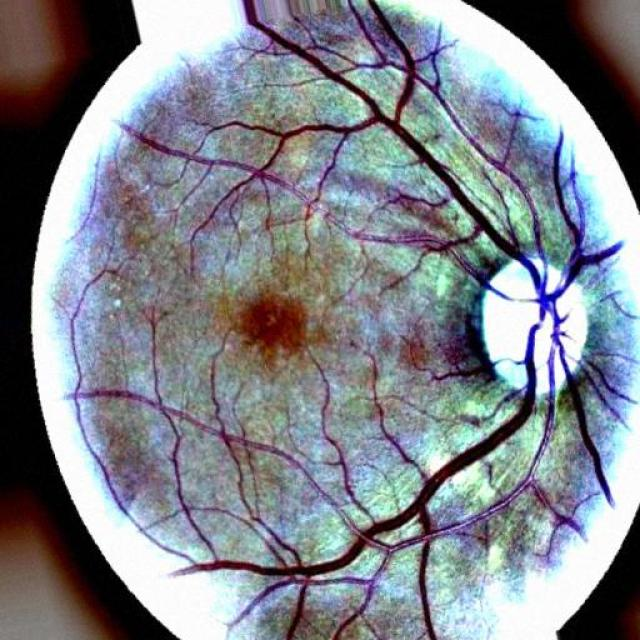Macula: (239, 291, 306, 366)
Optic Disk: (481, 259, 585, 390)
